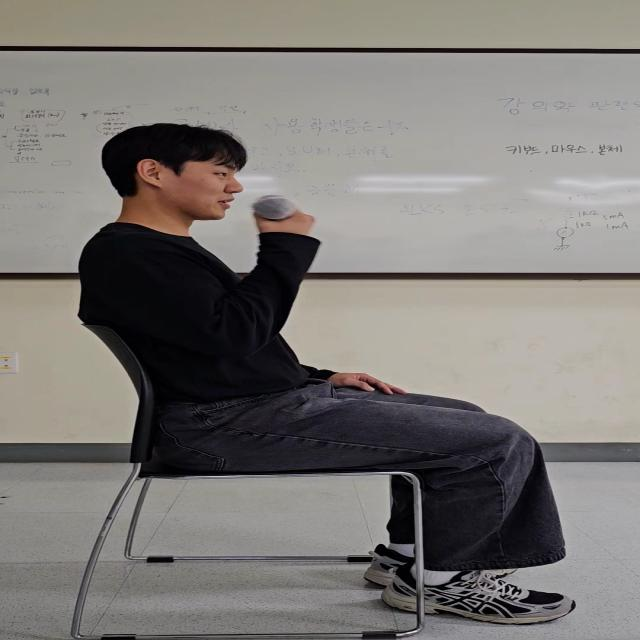curl: (228, 225, 291, 342), (135, 264, 228, 338)
